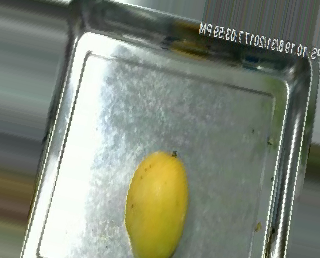Mango: (125, 152, 185, 256)
